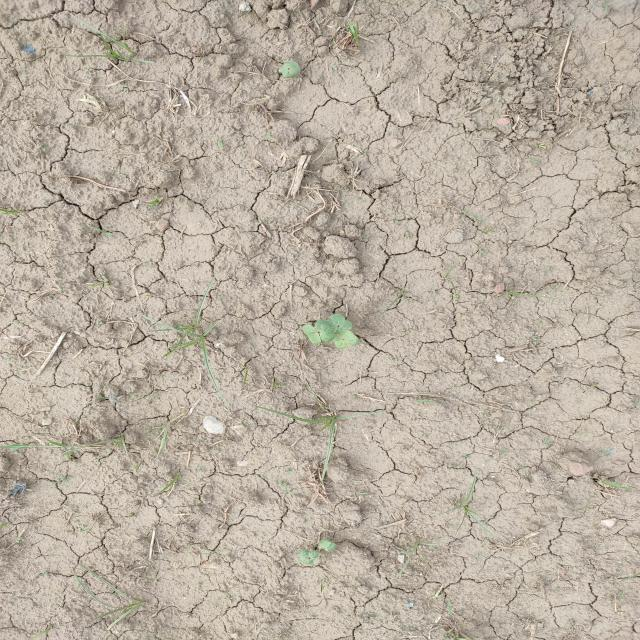seedling_s2: (315, 319, 335, 342), (279, 61, 301, 78), (303, 325, 321, 345), (328, 314, 345, 333), (339, 330, 360, 345), (336, 320, 353, 334), (319, 539, 337, 551), (333, 335, 347, 349), (299, 557, 322, 565), (299, 550, 318, 559)
